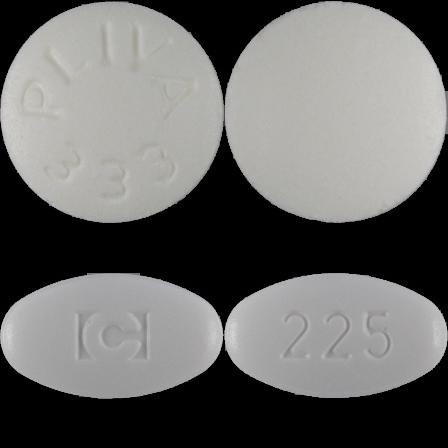16590-385: (0, 0, 224, 224)
